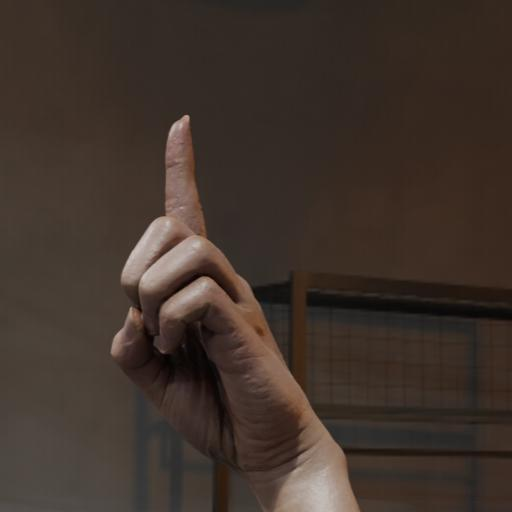D: (98, 108, 368, 512)
